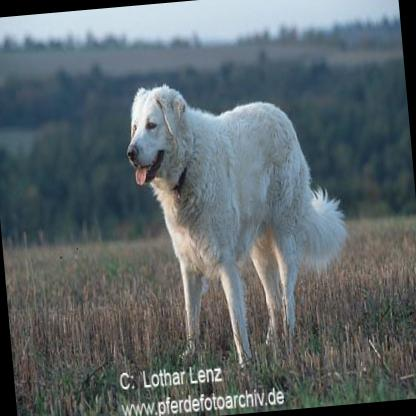kuvasz: (119, 66, 361, 378)
